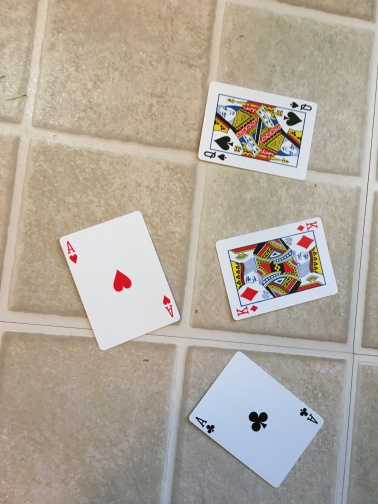ace: (188, 350, 324, 488), (58, 211, 181, 349)
king: (214, 216, 339, 321)
queen: (197, 82, 318, 182)
